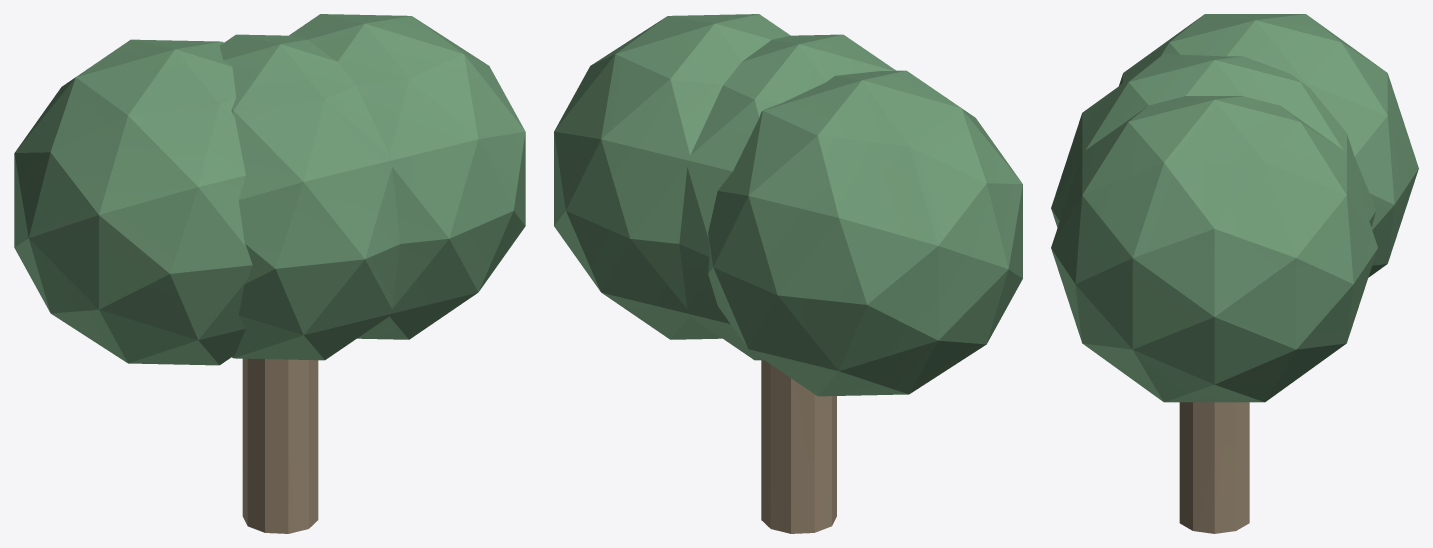
Rendered from broadleaf-03.glb.
The picture shows the model from 3 angles, left to right: view 1: azimuth 30°, elevation 25°; view 2: azimuth 150°, elevation 25°; view 3: azimuth 270°, elevation 25°; orthographic projection. The views are drawn at different scales.
Visible parts, largest first — view 1: world; view 2: world; view 3: world.
Part boxes in pixels (x1,y1,x2,y2): world: (14, 14, 525, 533); world: (554, 14, 1022, 533); world: (1051, 14, 1418, 533).
Bounding box in the file's own units: 1.26 × 1.24 × 0.8998.
